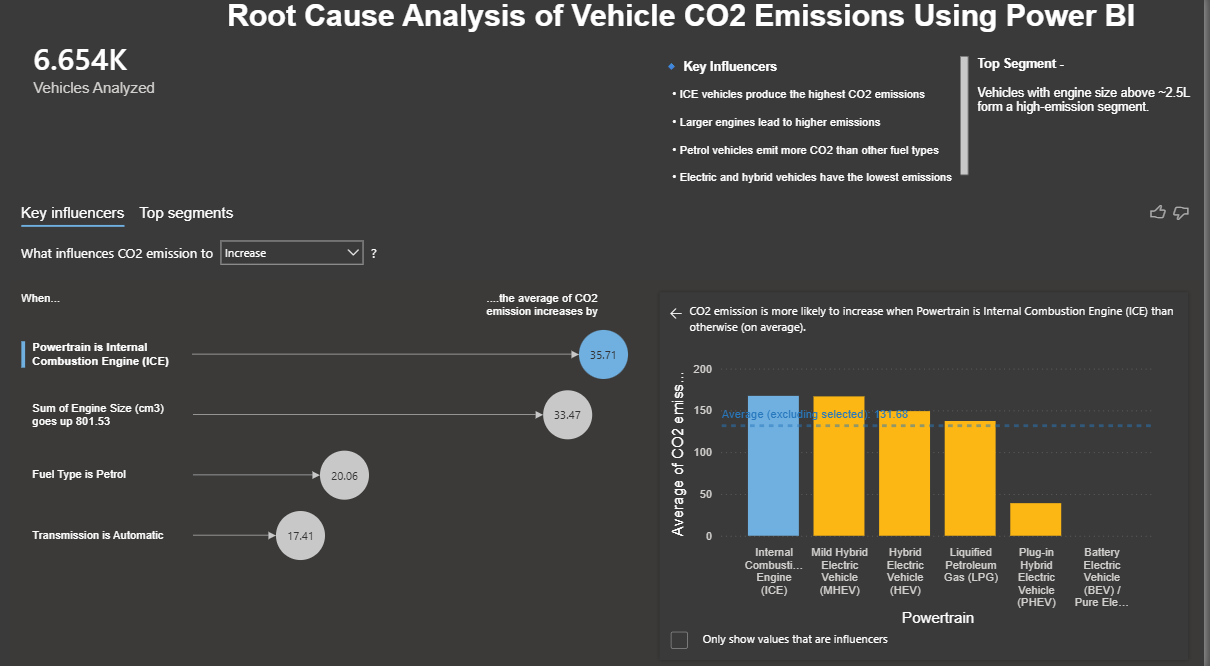

This screenshot's page, from the dashboard's own definition file:
{"tool":"powerbi","page":{"name":"Key Insights & Drivers","canvas":[1280,720],"ordinal":0},"visuals":[{"type":"cardVisual","fields":{"Data":["CountNonNull(Vehicles.car_id)"]},"box":[9.7,0,229.9,155.4],"z":0},{"type":"keyDriversVisual","fields":{"Target":["Vehicles.CO2 emission"],"ExplainBy":["Sum(Vehicles.Engine Size (cm3))","Vehicles.Fuel Type","Vehicles.Powertrain","Vehicles.Transmission"]},"box":[9.4,209.8,1271.8,510.2],"z":1000},{"type":"textbox","box":[239.6,0,1041.2,63.1],"z":2000},{"type":"textbox","box":[701.1,62.4,334.5,147.4],"z":3000},{"type":"textbox","box":[1035.6,62.4,243.8,132.3],"z":4000}]}

Visuals, with their boxes in screenshot pixels (x1, y1, x2, y2), scaled from the page's 1280x720 canvas onto the 1210x666 screenshot:
cardVisual - CountNonNull(Vehicles.car_id): (x1=9, y1=0, x2=226, y2=144)
keyDriversVisual - Vehicles.CO2 emission x Sum(Vehicles.Engine Size (cm3)): (x1=9, y1=194, x2=1209, y2=665)
textbox: (x1=226, y1=0, x2=1209, y2=58)
textbox: (x1=663, y1=58, x2=979, y2=194)
textbox: (x1=979, y1=58, x2=1209, y2=180)
